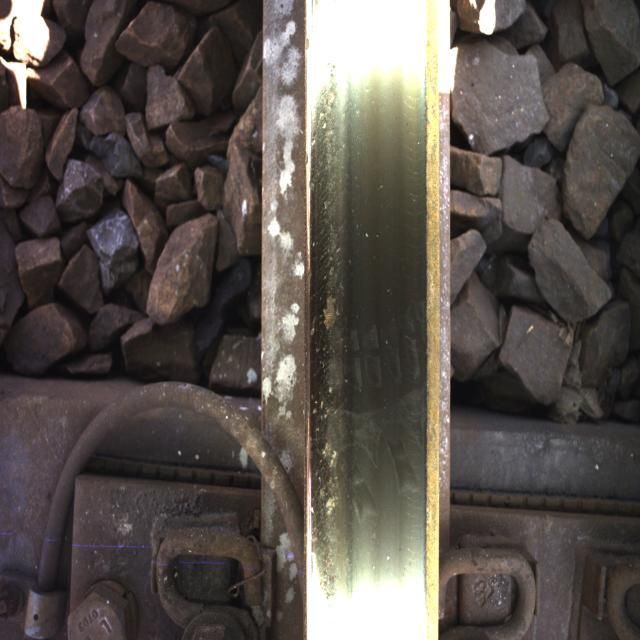scar: (309, 64, 366, 558)
